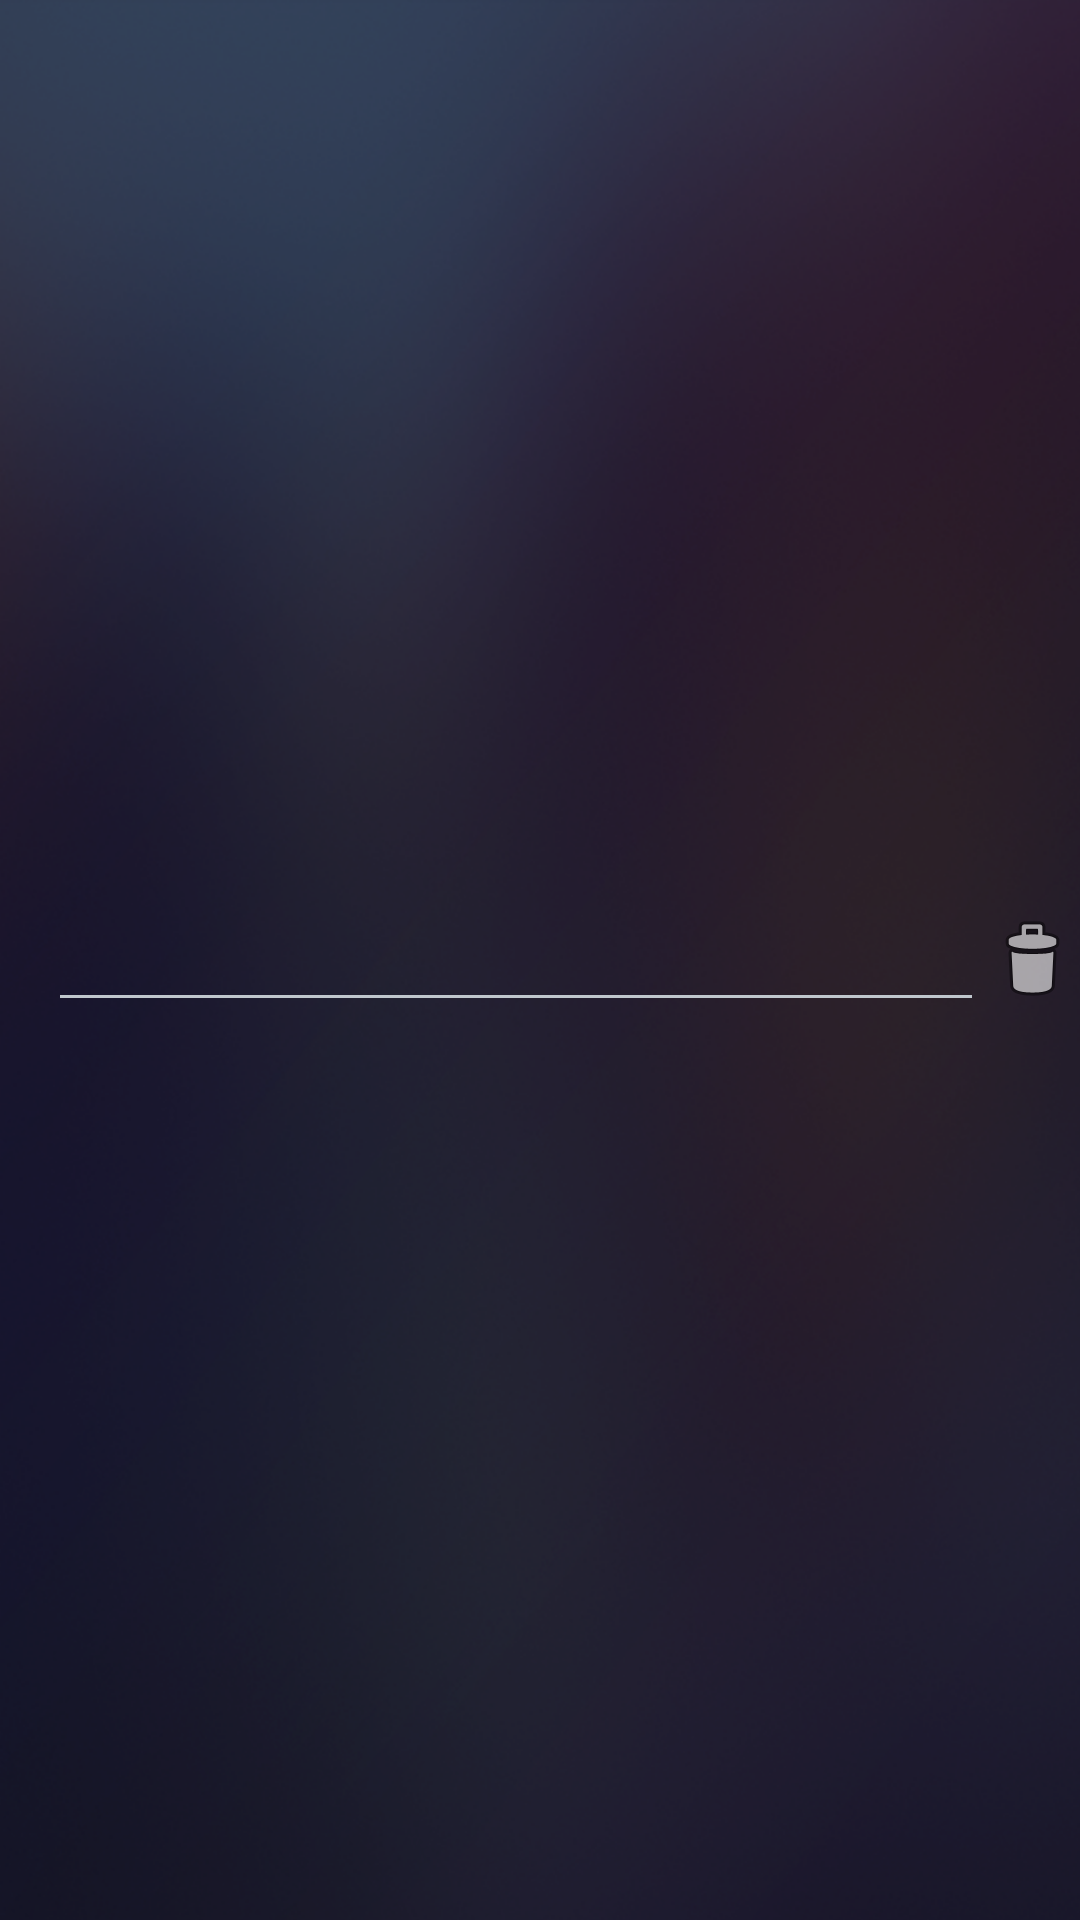

Where to tap for icons on this 1080px×1920px app screen, as (x,y):
delete: (1032,958)
